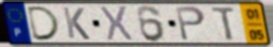6: (136, 4, 167, 44)
D: (26, 5, 63, 42)
K: (61, 6, 92, 41)
P: (174, 5, 207, 42)
T: (210, 6, 237, 42)
X: (99, 5, 135, 43)
